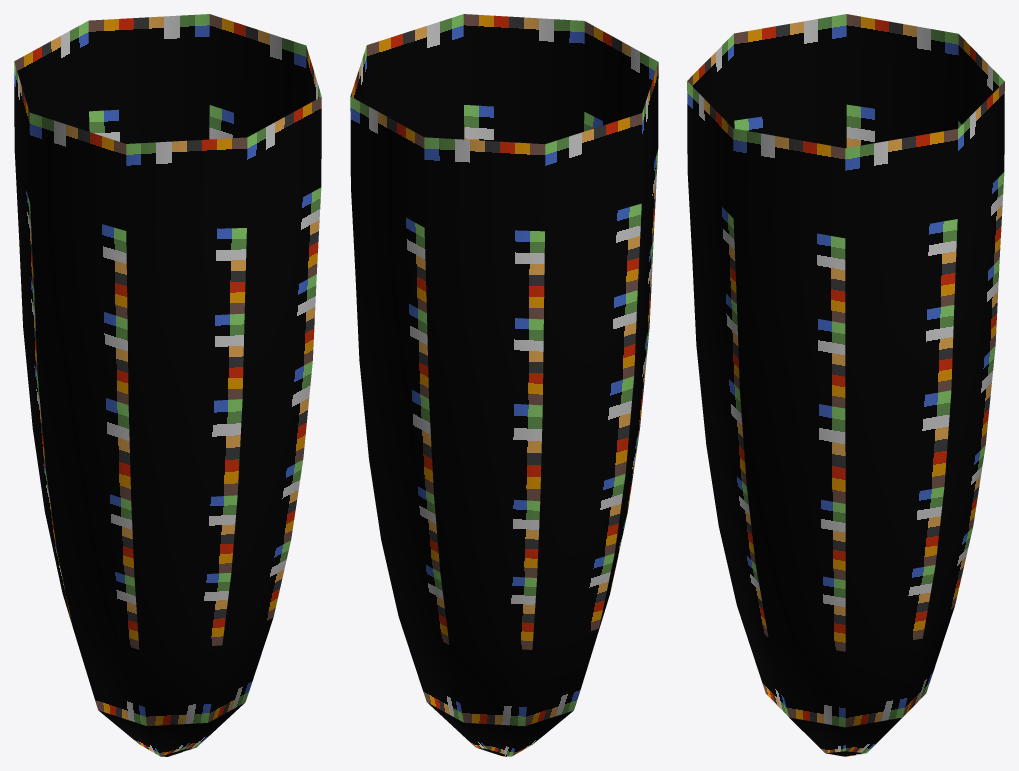
File: StartTentacleFlipped3.fbx
3 views of the same model, side by side, from view 1: azimuth 30°, elevation 25°; view 2: azimuth 150°, elevation 25°; view 3: azimuth 270°, elevation 25° (orthographic).
Parts seen in each view (by area): view 1: Tentacle.005; view 2: Tentacle.005; view 3: Tentacle.005.
Boxes of the visible parts, x1,y1,x2,y2 form: Tentacle.005: [14, 14, 321, 756]; Tentacle.005: [350, 14, 658, 756]; Tentacle.005: [687, 14, 1004, 756].
Bounding box in the file's own units: 0.5477 × 1.29 × 0.5477.
1 material, 1 textured.
